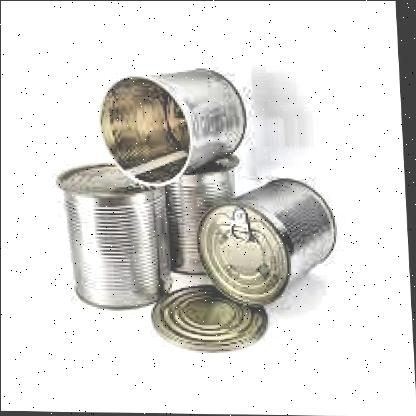Can: (95, 60, 259, 192), (195, 172, 344, 310), (52, 160, 174, 320), (158, 140, 248, 280), (143, 275, 273, 356)
